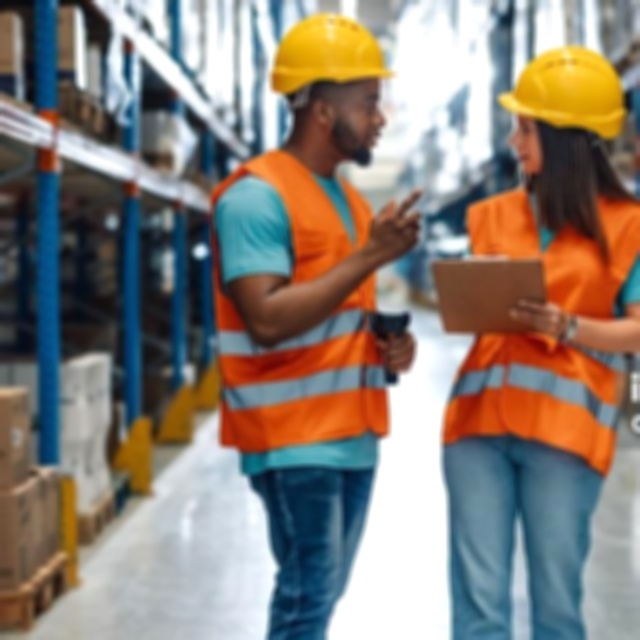Con_Chaleco: (208, 144, 405, 445), (442, 174, 640, 465)
